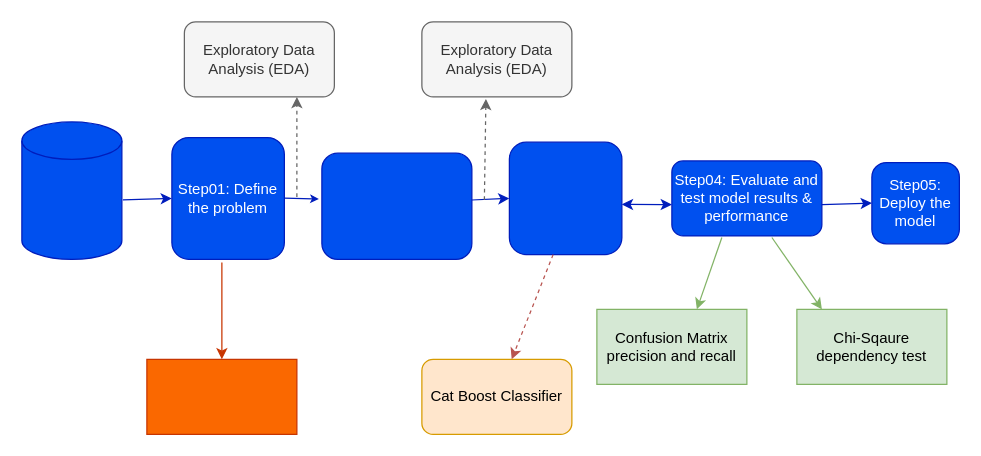
This 981x456 diagram has some shape labels left out. The shapes that lost their labels are listed below. From the top down, each one's box as (x1, y1, x2, y2) in pixels, then its label:
(21, 121, 122, 259): Telecom Dataset
(321, 152, 472, 259): Step02: Data Preprocessing & feature engineering
(508, 141, 622, 255): Step03: Model training and selection
(146, 358, 297, 434): Classification
